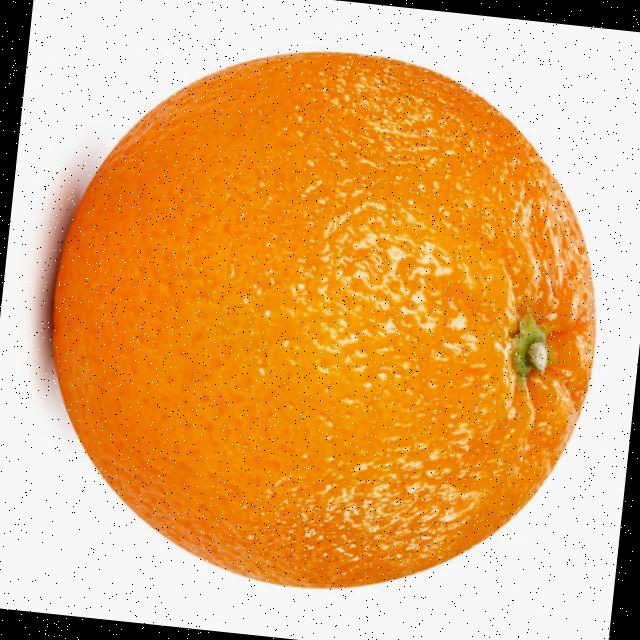Ripe: (19, 22, 630, 619)
